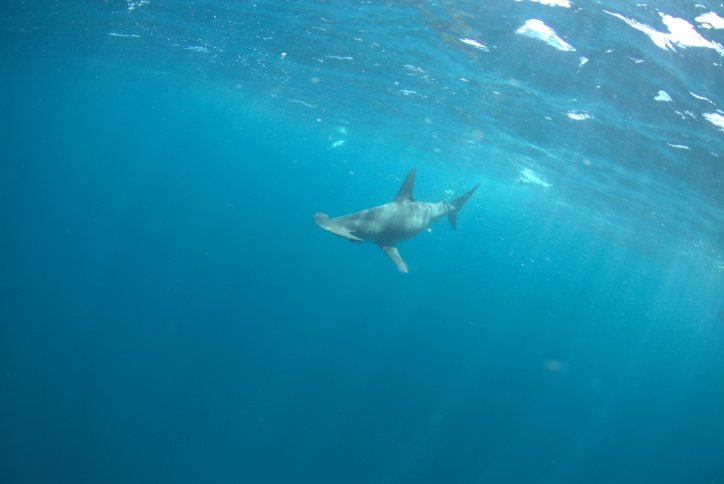Hammer: (294, 147, 526, 304)
